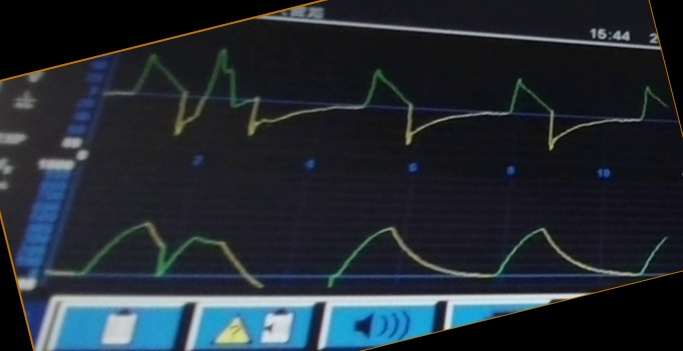Double_Triggering Flow: (111, 49, 634, 153)
Double_Triggering Volume: (52, 218, 629, 286)
